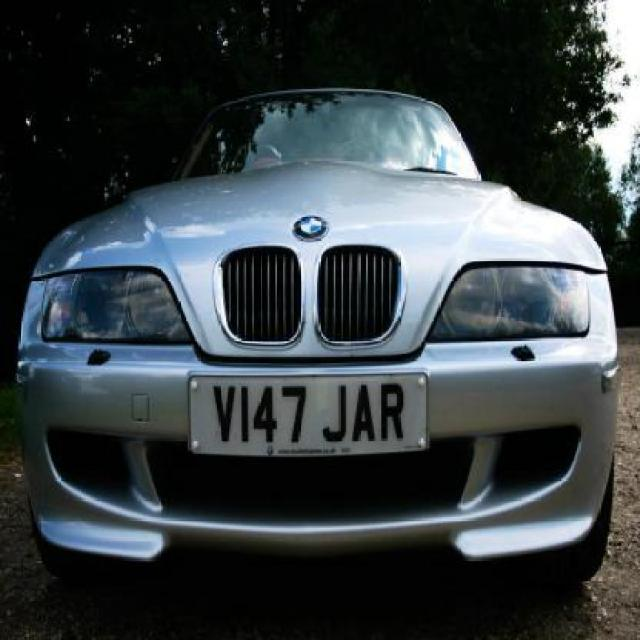License-Plates: (190, 372, 430, 456)
